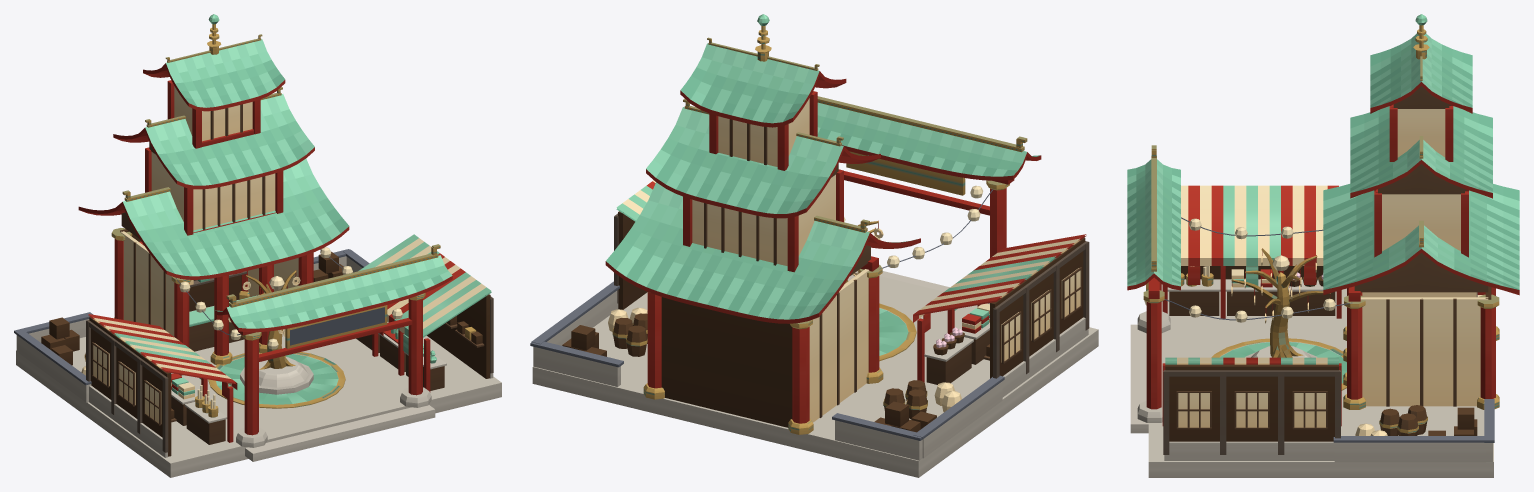
The model's file is Yggdrasil_Market.fbx.
The picture shows the model from 3 angles, left to right: view 1: azimuth 30°, elevation 25°; view 2: azimuth 150°, elevation 25°; view 3: azimuth 270°, elevation 25°; orthographic projection. The views are drawn at different scales.
Visible parts, largest first — view 1: YG_Market, YG_MarketLanterns; view 2: YG_Market, YG_MarketLanterns; view 3: YG_Market, YG_MarketLanterns, YG_MarketCoins.
Boxes of the visible parts, x1,y1,x2,y2 form: YG_Market: (14, 14, 501, 477); YG_MarketLanterns: (179, 247, 402, 349); YG_Market: (530, 14, 1098, 477); YG_MarketLanterns: (887, 185, 983, 267); YG_Market: (1127, 14, 1519, 477); YG_MarketLanterns: (1144, 218, 1335, 322); YG_MarketCoins: (1231, 255, 1316, 323).
Size of the model in its own units: 38.9 by 37 by 35.2.
Materials: 1 (1 with a texture image).
